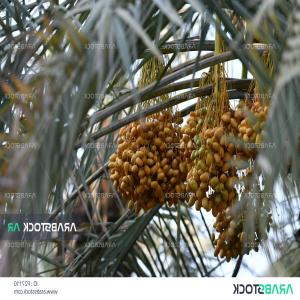palm tree: (1, 0, 299, 277)
